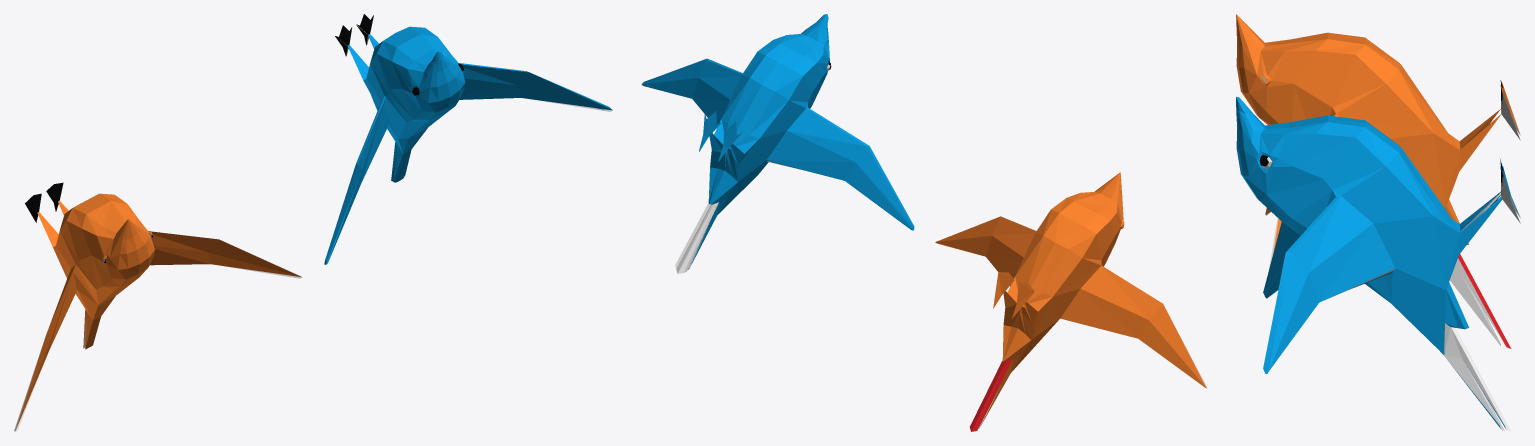
The model's file is bird-painted.obj.
3 views of the same model, side by side, from view 1: azimuth 30°, elevation 25°; view 2: azimuth 150°, elevation 25°; view 3: azimuth 270°, elevation 25° (orthographic). The views are drawn at different scales.
Parts seen in each view (by area): view 1: Object.1, Object.2; view 2: Object.1, Object.2; view 3: Object.1, Object.2.
Part boxes in pixels (x1,y1,x2,y2): Object.1: [324, 14, 612, 264]; Object.2: [14, 182, 302, 431]; Object.1: [641, 14, 914, 273]; Object.2: [935, 172, 1207, 431]; Object.1: [1236, 96, 1520, 431]; Object.2: [1236, 14, 1520, 348].
Size of the model in its own units: 33.42 by 16.39 by 10.04.
